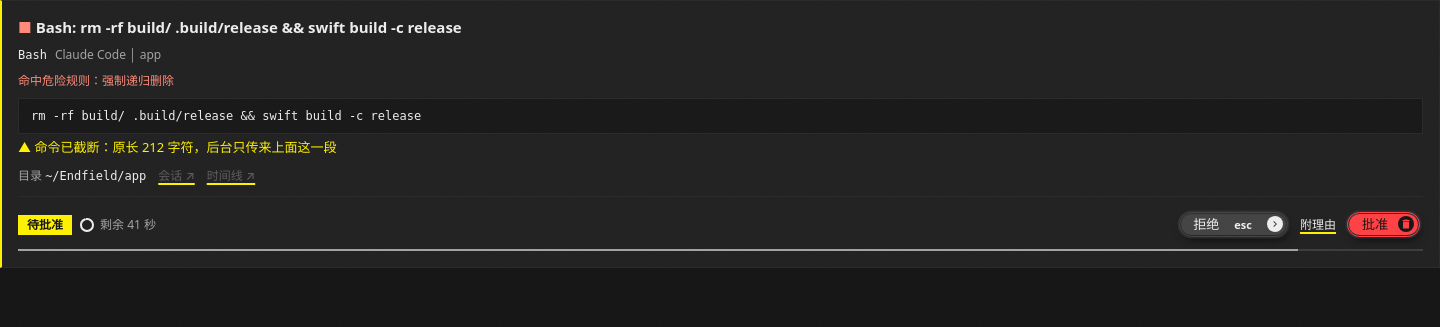
Scenario: deny with a reason › Esc in the field folds it away without deciding; Enter while composing does not send
The image size is (1440, 327).
Click the button with aria-label "拒绝并附一句理由". click: (1318, 225)
box: [1300, 213, 1336, 237]
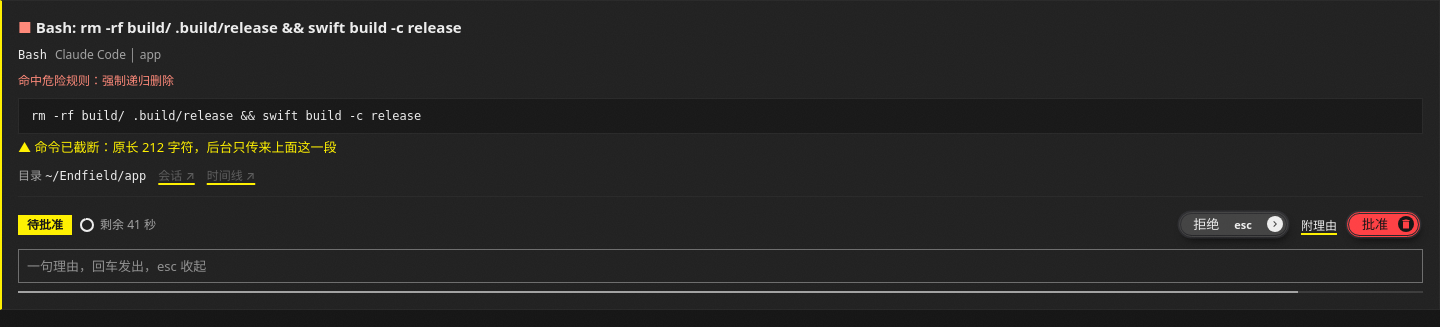
Type "不要" into the field named "拒绝理由". click: (720, 266)
box: [18, 249, 1423, 283]
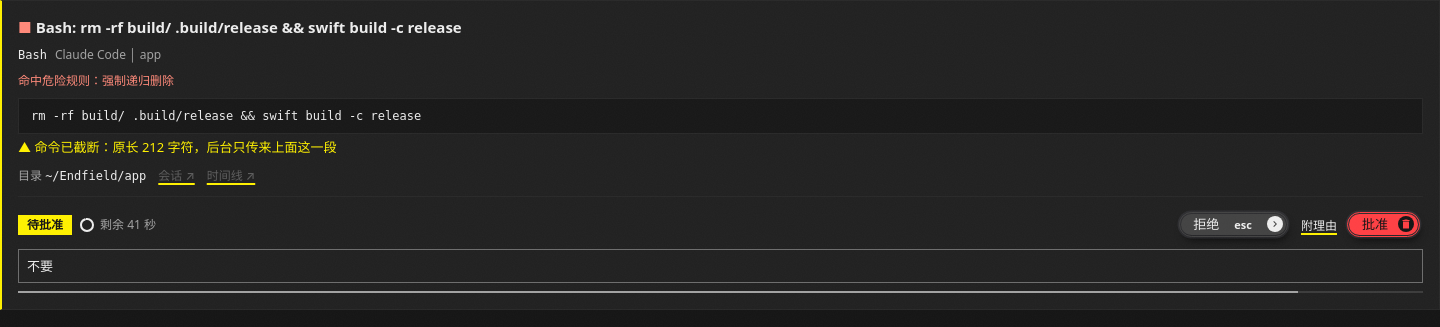
Press Enter in the field named "拒绝理由", box [18, 249, 1423, 283]
Press Escape in the field named "拒绝理由", box [18, 249, 1423, 283]
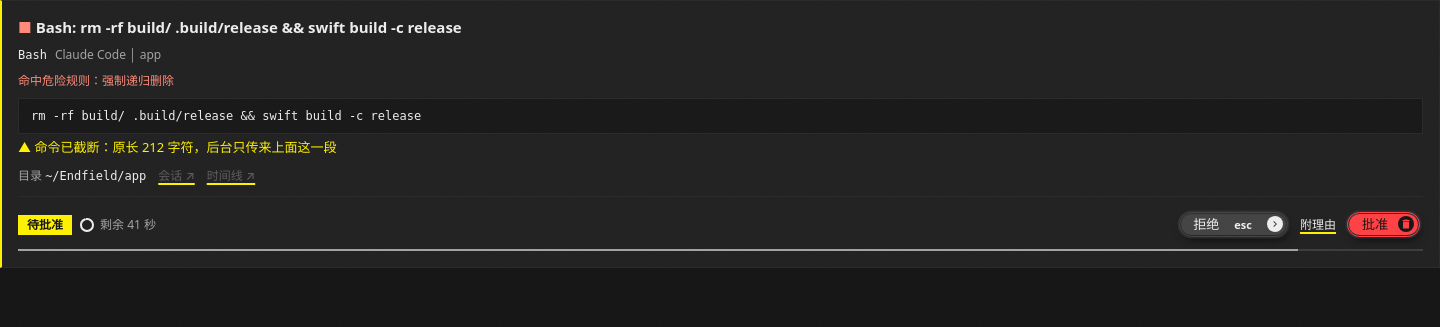
Expected: the field labelled "拒绝理由" is gone
